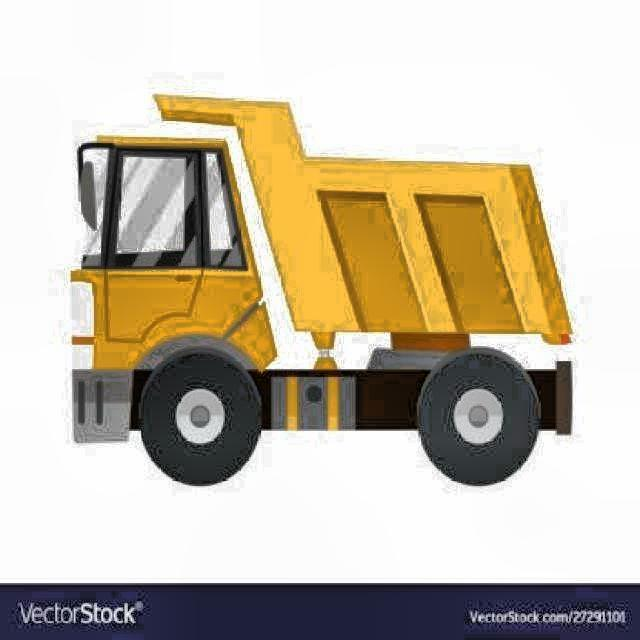dump_truck: (42, 80, 593, 493)
